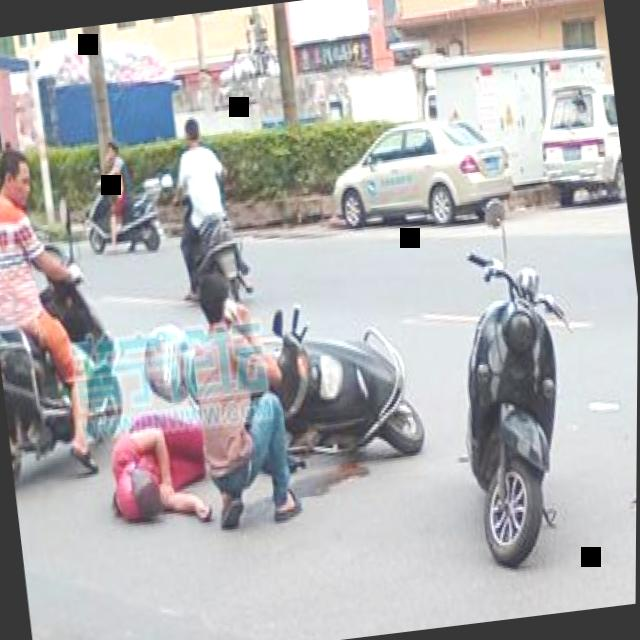Fall-Detected: (91, 401, 217, 542)
